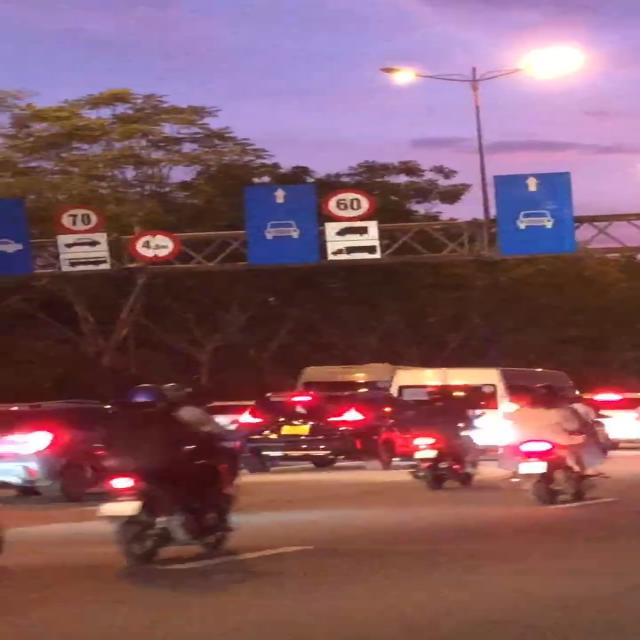Bien bao han che chieu cao: (128, 229, 182, 265)
Bien bao toc do toi da cho phep: (321, 184, 375, 224), (54, 206, 108, 238)
